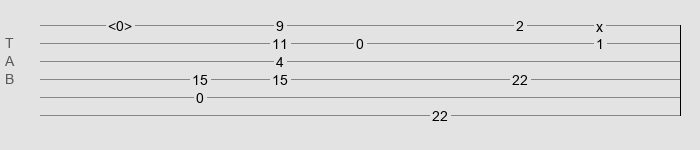0: (196, 90, 204, 100), (356, 36, 364, 46)
1: (596, 36, 604, 46)
11: (272, 36, 288, 46)
15: (192, 72, 208, 82), (272, 72, 288, 82)
2: (516, 18, 524, 28)
22: (432, 108, 448, 118), (512, 72, 528, 82)
4: (276, 54, 284, 64)
9: (276, 18, 284, 28)
harmonic: (108, 18, 132, 28)
x: (596, 19, 603, 27)
